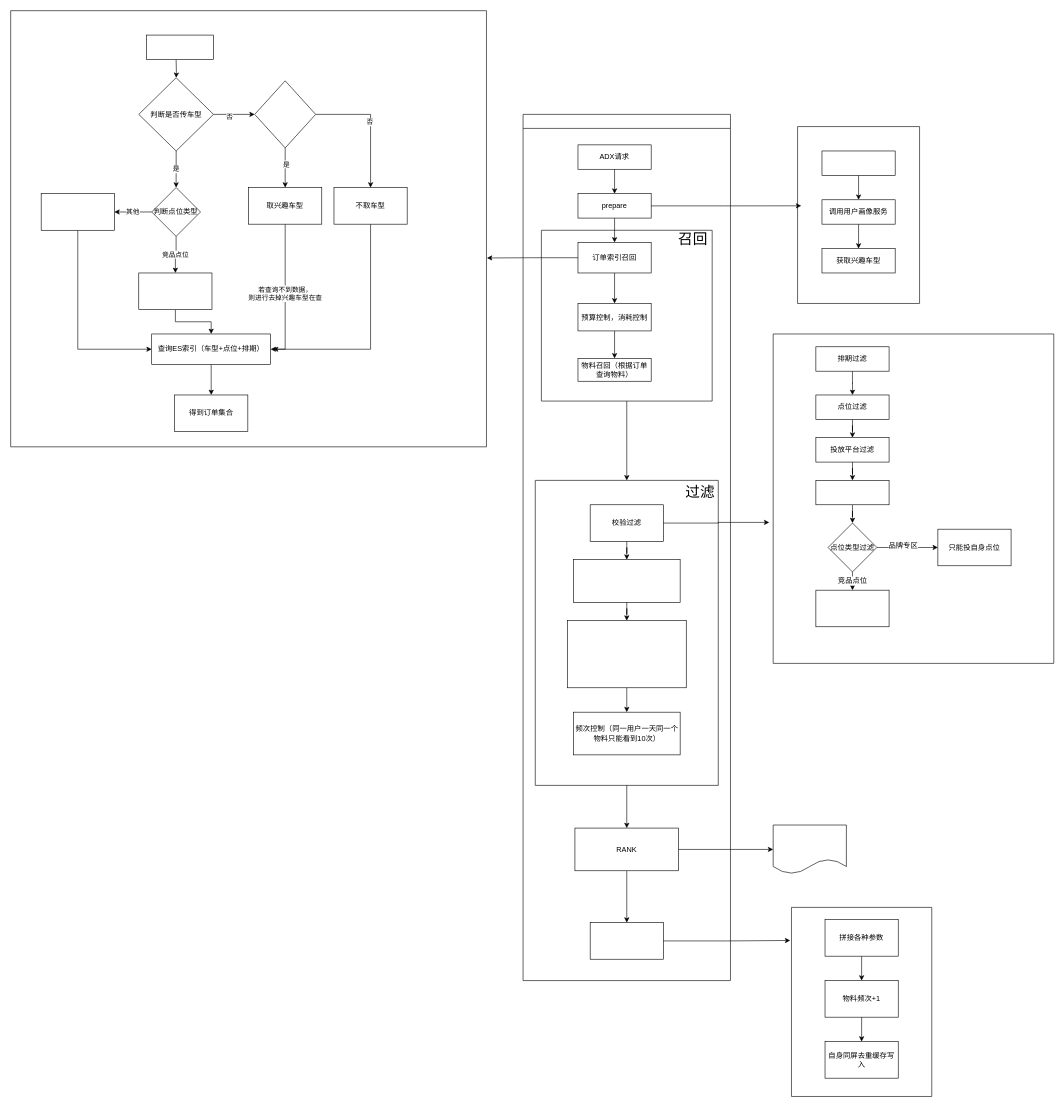
The diagram is 1064 pixels wide and 1107 high, and some of its shapes have lost their labels. Each missing label, with the box of its shape:
CPM: (522, 114, 730, 981)
Padding: (590, 922, 663, 959)
不能投放自身车型，只能投放竞品车型: (815, 590, 889, 627)
判断是否有兴趣车型: (254, 80, 316, 148)
取端上车型: (41, 193, 114, 230)
合约同屏去重（合约投放的页面不能投放相同车型的物料）: (573, 559, 680, 602)
处理了多个点位相同物料和多个点位有相同车型的情况: (773, 824, 846, 874)
尺寸过滤: (815, 480, 889, 505)
根据车型获取竞品车型: (138, 272, 212, 310)
自身同屏去重（同一个页面不能投放相同的车型的M物料--处理的是和已写入缓存的车型对比）: (567, 620, 686, 688)
获取点位类型: (146, 34, 214, 59)
记录访问PC请求的用户和页面URL: (821, 150, 895, 175)
